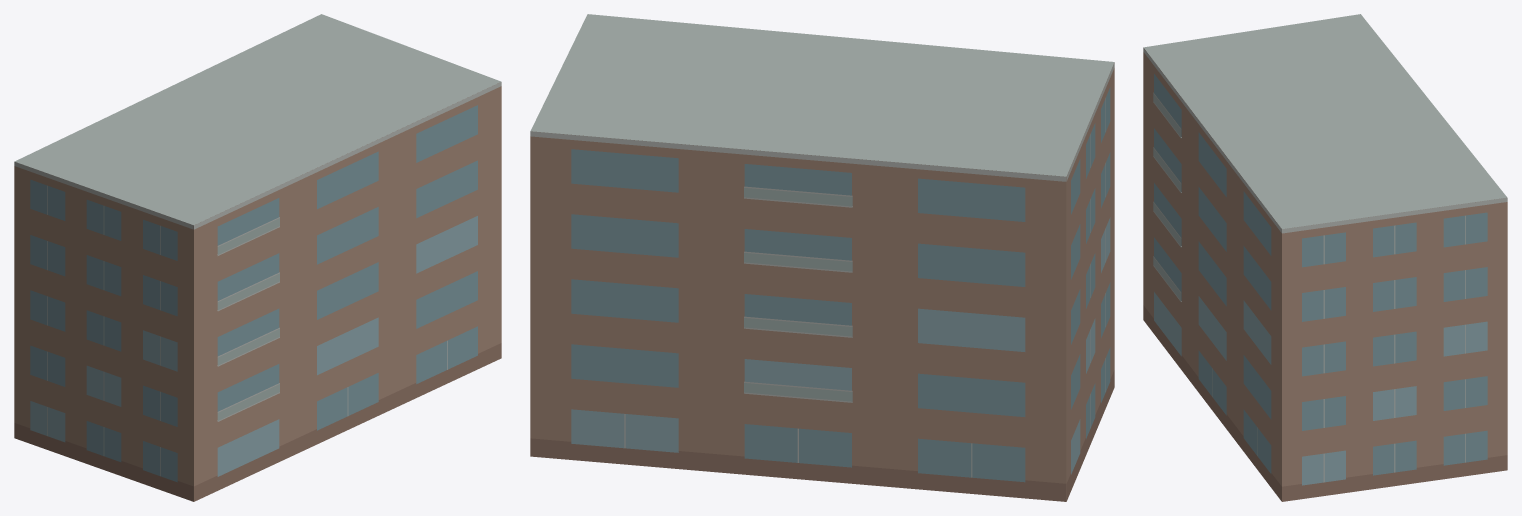
File: survey-upis-33036976.glb
3 renders of one model, left to right at view 1: azimuth 30°, elevation 25°; view 2: azimuth 150°, elevation 25°; view 3: azimuth 270°, elevation 25°, orthographic. The views are drawn at different scales.
Visible parts, largest first — view 1: survey-upis-33036976.tmp; view 2: survey-upis-33036976.tmp; view 3: survey-upis-33036976.tmp.
Boxes of the visible parts, x1,y1,x2,y2 form: survey-upis-33036976.tmp: (14, 14, 501, 501); survey-upis-33036976.tmp: (530, 14, 1114, 501); survey-upis-33036976.tmp: (1143, 14, 1507, 501).
Size of the model in its own units: 25.99 by 15.35 by 18.58.
